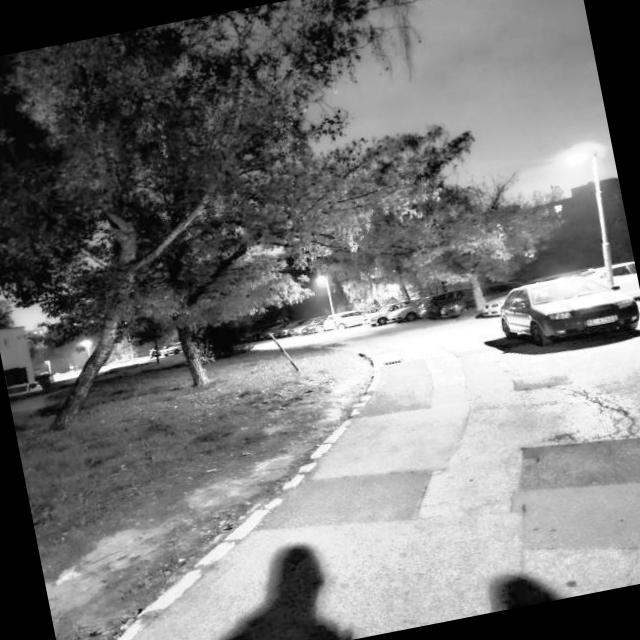Light: (564, 138, 634, 284), (313, 267, 344, 336), (83, 337, 99, 358)
